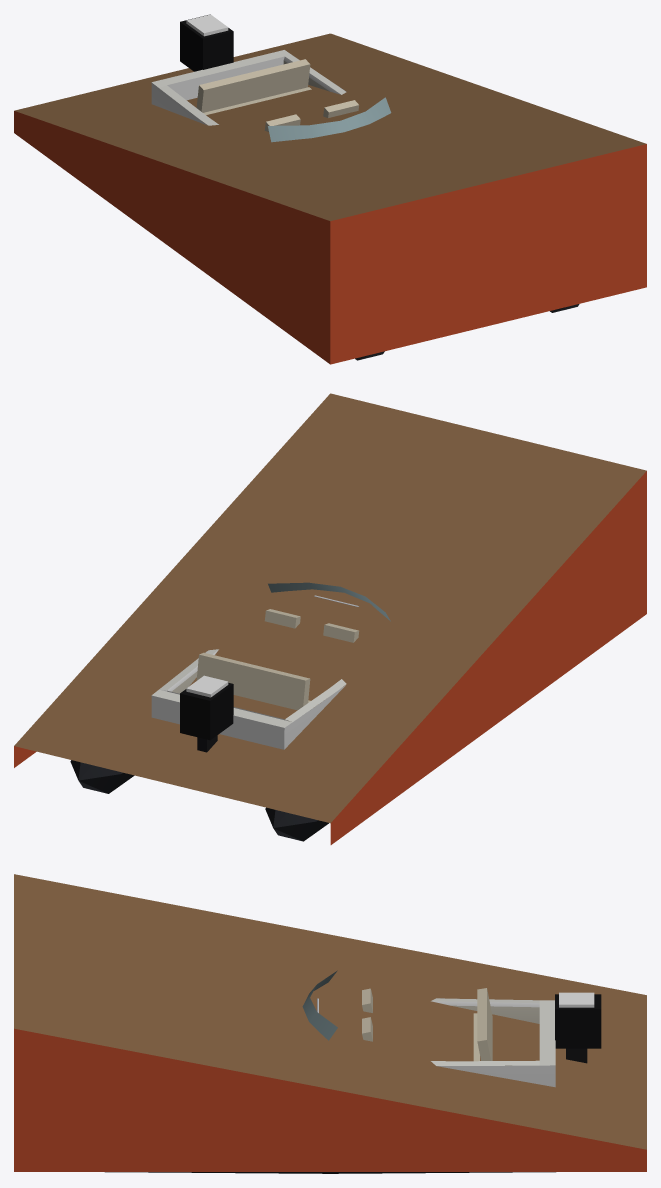
The model's file is boats_far.glb.
The picture shows the model from 3 angles, top to bottom: view 1: azimuth 30°, elevation 25°; view 2: azimuth 150°, elevation 25°; view 3: azimuth 270°, elevation 25°; orthographic projection.
Visible parts, largest first — view 1: ramp_LOD1, speedboat_LOD2; view 2: ramp_LOD1, speedboat_LOD2; view 3: ramp_LOD1, speedboat_LOD2.
Boxes of the visible parts, x1,y1,x2,y2 form: ramp_LOD1: (14, 33, 646, 364); speedboat_LOD2: (151, 14, 391, 142); ramp_LOD1: (14, 393, 646, 844); speedboat_LOD2: (151, 582, 390, 752); ramp_LOD1: (14, 874, 646, 1173); speedboat_LOD2: (302, 970, 601, 1087).
Size of the model in its own units: 5.2 by 2.64 by 9.
